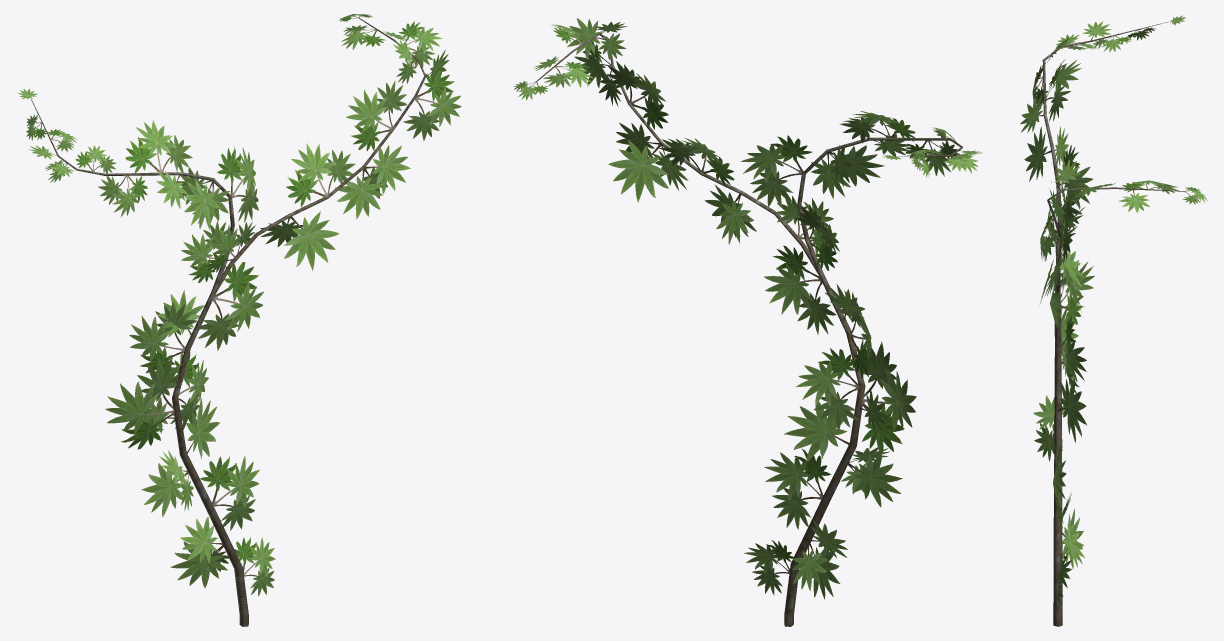
File: SM_vine_b.fbx
3 views of the same model, side by side, from view 1: azimuth 30°, elevation 25°; view 2: azimuth 150°, elevation 25°; view 3: azimuth 270°, elevation 25° (orthographic). The views are drawn at different scales.
Visible parts, largest first — view 1: SM_vine_geo_2, SM_vine_leaf_card_large61, SM_vine_leaf_card_large41, SM_vine_leaf_card_large37, SM_vine_leaf_card_large40, SM_vine_leaf_card_large53, SM_vine_leaf_card_large56, SM_vine_leaf_card_large49, SM_vine_leaf_card_large55, SM_vine_leaf_card_small21, SM_vine_leaf_card_large50, SM_vine_leaf_card_large36 (+13 smaller); view 2: SM_vine_geo_2, SM_vine_leaf_card_large61, SM_vine_leaf_card_large41, SM_vine_leaf_card_large39, SM_vine_leaf_card_large37, SM_vine_leaf_card_large50, SM_vine_leaf_card_small76, SM_vine_leaf_card_small19, SM_vine_leaf_card_large56, SM_vine_leaf_card_large53, SM_vine_leaf_card_large36, SM_vine_leaf_card_small65 (+13 smaller); view 3: SM_vine_geo_2, SM_vine_leaf_card_large49, SM_vine_leaf_card_large50, SM_vine_leaf_card_small19, SM_vine_leaf_card_large40, SM_vine_leaf_card_large39, SM_vine_leaf_card_small72, SM_vine_leaf_card_large37, SM_vine_leaf_card_small81, SM_vine_leaf_card_small66, SM_vine_leaf_card_small70, SM_vine_leaf_card_small20 (+12 smaller).
Boxes of the visible parts, bbox=[...] form: SM_vine_geo_2: bbox=[32, 17, 426, 626]; SM_vine_leaf_card_large61: bbox=[105, 356, 187, 449]; SM_vine_leaf_card_large41: bbox=[198, 262, 263, 350]; SM_vine_leaf_card_large37: bbox=[200, 456, 259, 530]; SM_vine_leaf_card_large40: bbox=[129, 301, 197, 373]; SM_vine_leaf_card_large53: bbox=[286, 143, 355, 207]; SM_vine_leaf_card_large56: bbox=[346, 80, 406, 151]; SM_vine_leaf_card_large49: bbox=[125, 120, 192, 172]; SM_vine_leaf_card_large55: bbox=[403, 70, 461, 141]; SM_vine_leaf_card_small21: bbox=[283, 211, 339, 270]; SM_vine_leaf_card_large50: bbox=[217, 146, 258, 222]; SM_vine_leaf_card_large36: bbox=[234, 537, 275, 596]; SM_vine_geo_2: bbox=[536, 33, 962, 626]; SM_vine_leaf_card_large61: bbox=[850, 340, 916, 453]; SM_vine_leaf_card_large41: bbox=[764, 245, 836, 334]; SM_vine_leaf_card_large39: bbox=[796, 348, 860, 431]; SM_vine_leaf_card_large37: bbox=[764, 448, 831, 529]; SM_vine_leaf_card_large50: bbox=[741, 135, 812, 207]; SM_vine_leaf_card_small76: bbox=[608, 140, 668, 202]; SM_vine_leaf_card_small19: bbox=[784, 401, 849, 460]; SM_vine_leaf_card_large56: bbox=[606, 61, 668, 129]; SM_vine_leaf_card_large53: bbox=[659, 137, 734, 186]; SM_vine_leaf_card_large36: bbox=[744, 540, 795, 595]; SM_vine_leaf_card_small65: bbox=[847, 453, 902, 506]; SM_vine_geo_2: bbox=[1042, 22, 1184, 626]; SM_vine_leaf_card_large49: bbox=[1045, 59, 1081, 121]; SM_vine_leaf_card_large50: bbox=[1057, 145, 1093, 230]; SM_vine_leaf_card_small19: bbox=[1058, 378, 1087, 442]; SM_vine_leaf_card_large40: bbox=[1060, 260, 1094, 327]; SM_vine_leaf_card_large39: bbox=[1061, 316, 1086, 393]; SM_vine_leaf_card_small72: bbox=[1024, 126, 1051, 181]; SM_vine_leaf_card_large37: bbox=[1053, 439, 1066, 528]; SM_vine_leaf_card_small81: bbox=[1062, 523, 1085, 567]; SM_vine_leaf_card_small66: bbox=[1033, 395, 1064, 429]; SM_vine_leaf_card_small70: bbox=[1059, 250, 1083, 289]; SM_vine_leaf_card_small20: bbox=[1020, 95, 1043, 132].
Size of the model in its own units: 179 by 219 by 70.51.
